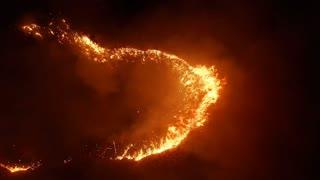fire: (107, 126, 205, 160), (175, 62, 223, 120), (19, 22, 95, 52), (107, 45, 186, 71), (2, 158, 41, 171)
